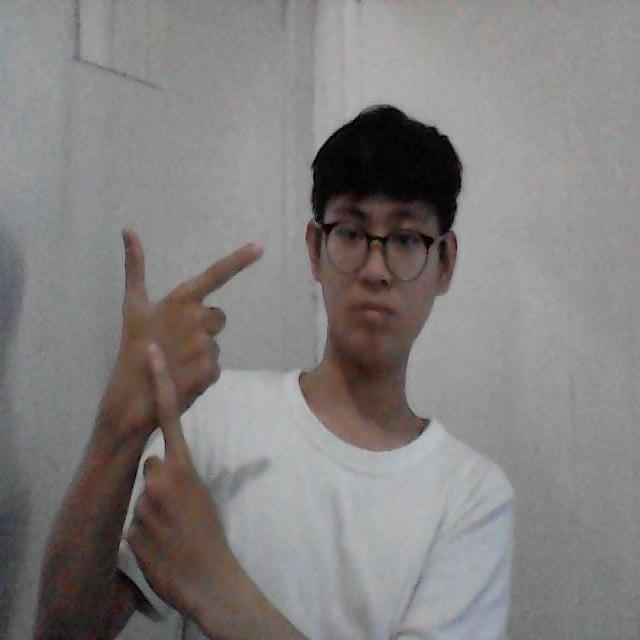Y: (109, 220, 268, 602)
